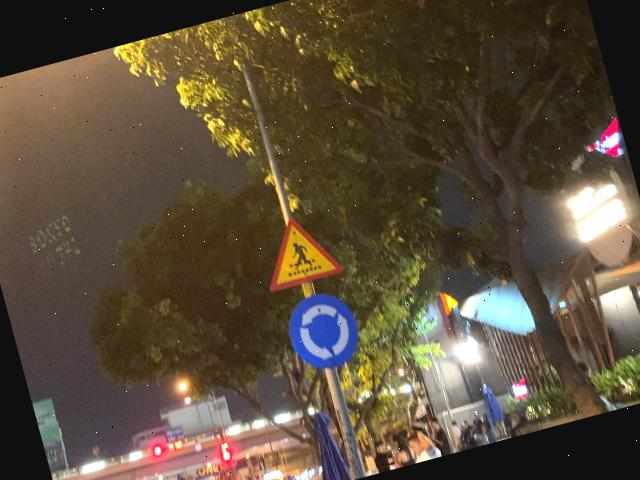duong-nguoi-di-bo-cat-ngang: (252, 206, 346, 292)
noi-giao-nhau-chay-theo-vong-xuyen: (279, 286, 366, 378)
